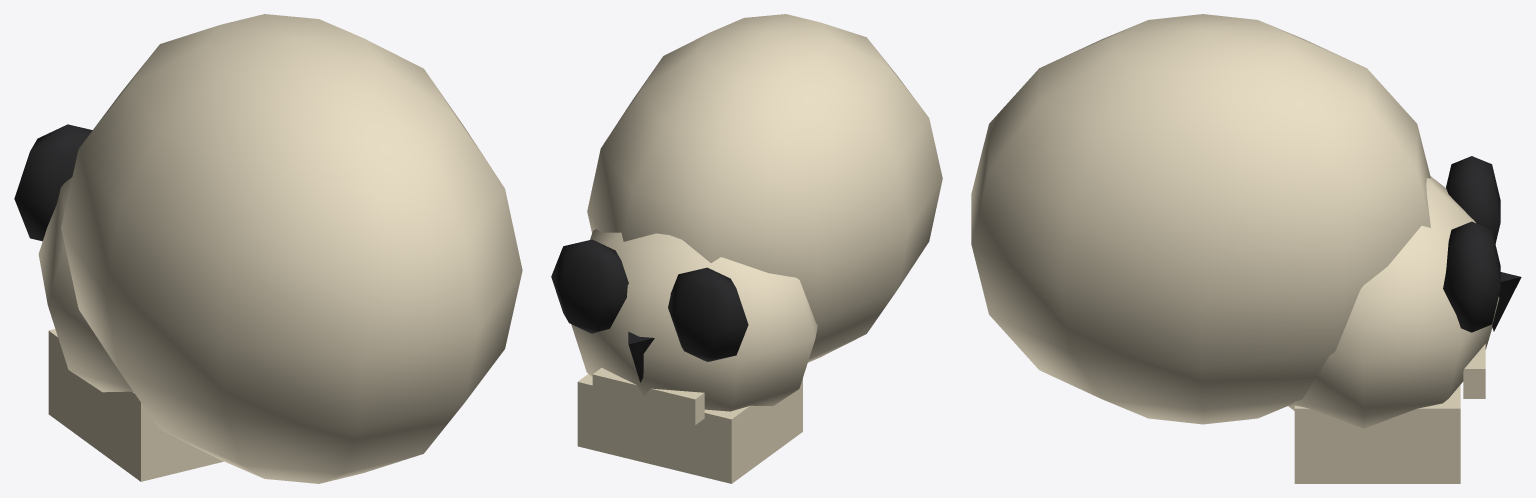
File: SKULL.glb
3 renders of one model, left to right at view 1: azimuth 30°, elevation 25°; view 2: azimuth 150°, elevation 25°; view 3: azimuth 270°, elevation 25°, orthographic. The views are drawn at different scales.
Parts seen in each view (by area): view 1: bone_0, tread_1; view 2: bone_0, tread_1; view 3: bone_0, tread_1.
Part boxes in pixels (x1,y1,x2,y2): bone_0: (38,14,522,483); tread_1: (14,124,92,241); bone_0: (571,14,942,483); tread_1: (551,239,748,382); bone_0: (971,14,1499,483); tread_1: (1443,156,1521,332).
Bounding box in the file's own units: 0.14 × 0.163 × 0.1987.
